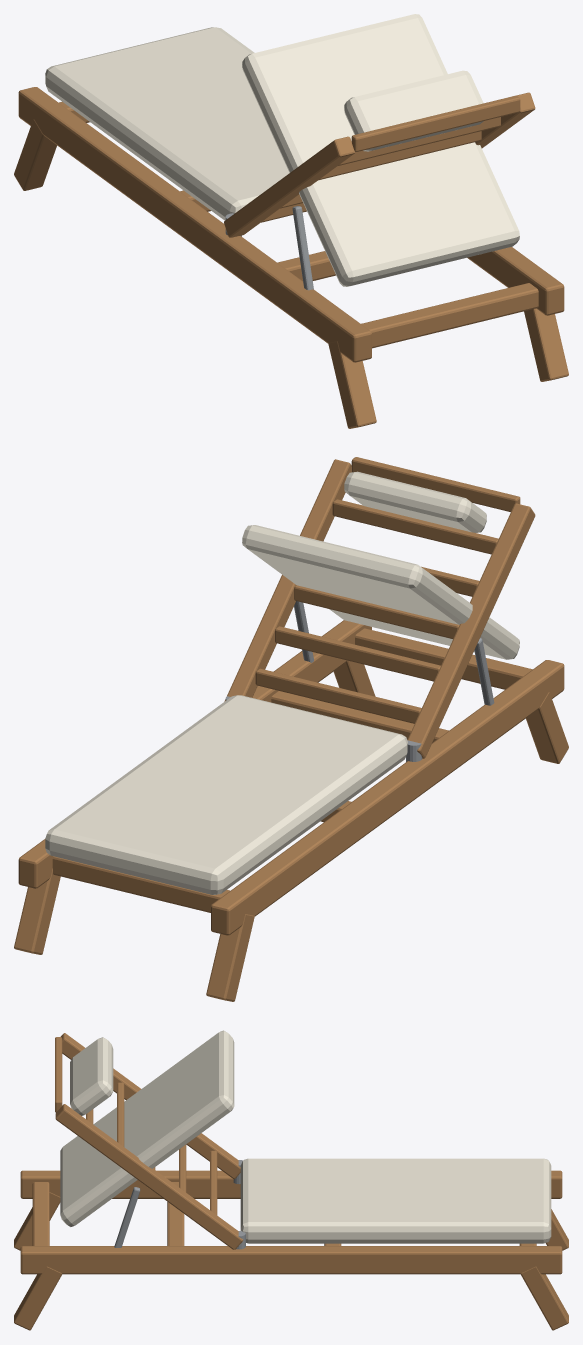
The model's file is beach_chair_sample.glb.
The picture shows the model from 3 angles, top to bottom: view 1: azimuth 30°, elevation 25°; view 2: azimuth 150°, elevation 25°; view 3: azimuth 270°, elevation 25°; orthographic projection. The views are drawn at different scales.
Visible parts, largest first — view 1: Reclining back upholstered cushion, Seat upholstered cushion, Longitudinal teak rail, Removable head pillow, Transverse brace, Adjustable backrest side rail, Backrest timber slat.005, Longitudinal teak rail.001, Angled supporting leg, Angled supporting leg.002, Angled supporting leg.001, Backrest timber slat.003 (+4 smaller); view 2: Seat upholstered cushion, Longitudinal teak rail, Reclining back upholstered cushion, Adjustable backrest side rail, Adjustable backrest side rail.001, Removable head pillow, Longitudinal teak rail.001, Transverse brace.003, Backrest timber slat, Backrest timber slat.001, Backrest timber slat.004, Transverse brace (+9 smaller); view 3: Seat upholstered cushion, Longitudinal teak rail.001, Reclining back upholstered cushion, Adjustable backrest side rail.001, Longitudinal teak rail, Removable head pillow, Adjustable backrest side rail, Angled supporting leg.002, Angled supporting leg.003, Transverse brace, Transverse brace.001, Angled supporting leg (+5 smaller).
Part boxes in pixels (box(x1,y1,x2,y2)): Reclining back upholstered cushion: box(242, 14, 519, 286); Seat upholstered cushion: box(45, 27, 289, 220); Longitudinal teak rail: box(18, 87, 371, 362); Removable head pillow: box(344, 70, 483, 151); Transverse brace: box(361, 283, 538, 348); Adjustable backrest side rail: box(224, 136, 354, 237); Backrest timber slat.005: box(351, 95, 520, 151); Longitudinal teak rail.001: box(467, 247, 564, 315); Angled supporting leg: box(328, 341, 376, 428); Angled supporting leg.002: box(524, 308, 568, 381); Angled supporting leg.001: box(14, 119, 56, 190); Backrest timber slat.003: box(318, 131, 481, 180); Seat upholstered cushion: box(45, 695, 407, 894); Longitudinal teak rail: box(211, 660, 564, 935); Reclining back upholstered cushion: box(242, 525, 519, 659); Adjustable backrest side rail: box(407, 503, 535, 758); Adjustable backrest side rail.001: box(224, 459, 351, 701); Removable head pillow: box(344, 471, 486, 532); Longitudinal teak rail.001: box(18, 620, 371, 888); Transverse brace.003: box(52, 856, 229, 912); Backrest timber slat: box(255, 668, 421, 723); Backrest timber slat.001: box(275, 626, 440, 681); Backrest timber slat.004: box(332, 499, 498, 554); Transverse brace: box(355, 628, 532, 689); Seat upholstered cushion: box(240, 1158, 551, 1243); Longitudinal teak rail.001: box(20, 1246, 562, 1274); Reclining back upholstered cushion: box(60, 1030, 234, 1226); Adjustable backrest side rail.001: box(55, 1104, 243, 1249); Longitudinal teak rail: box(20, 1170, 562, 1198); Removable head pillow: box(70, 1037, 113, 1115); Adjustable backrest side rail: box(60, 1033, 240, 1179); Angled supporting leg.002: box(14, 1266, 62, 1330); Angled supporting leg.003: box(520, 1266, 568, 1330); Transverse brace: box(32, 1182, 49, 1245); Transverse brace.001: box(167, 1182, 184, 1245); Angled supporting leg: box(14, 1192, 60, 1250).
Size of the model in its own units: 0.717 by 0.9243 by 2.02.
